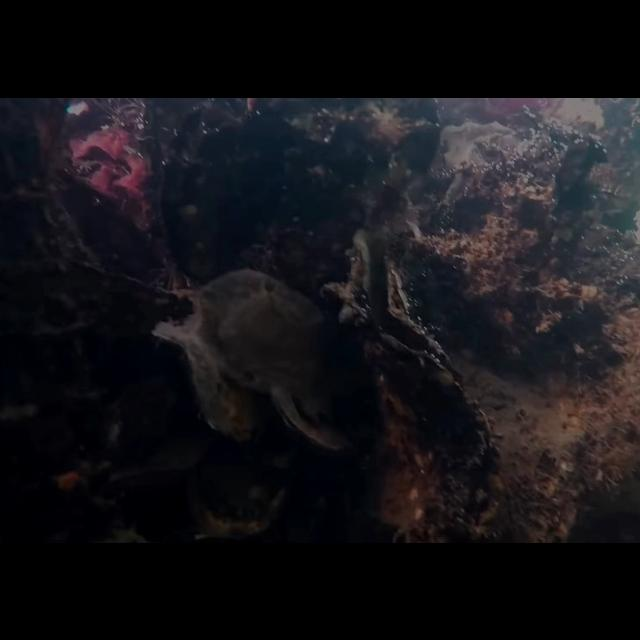Oyster-Closed: (192, 269, 368, 453)
Oyster-Open: (326, 227, 468, 393)
